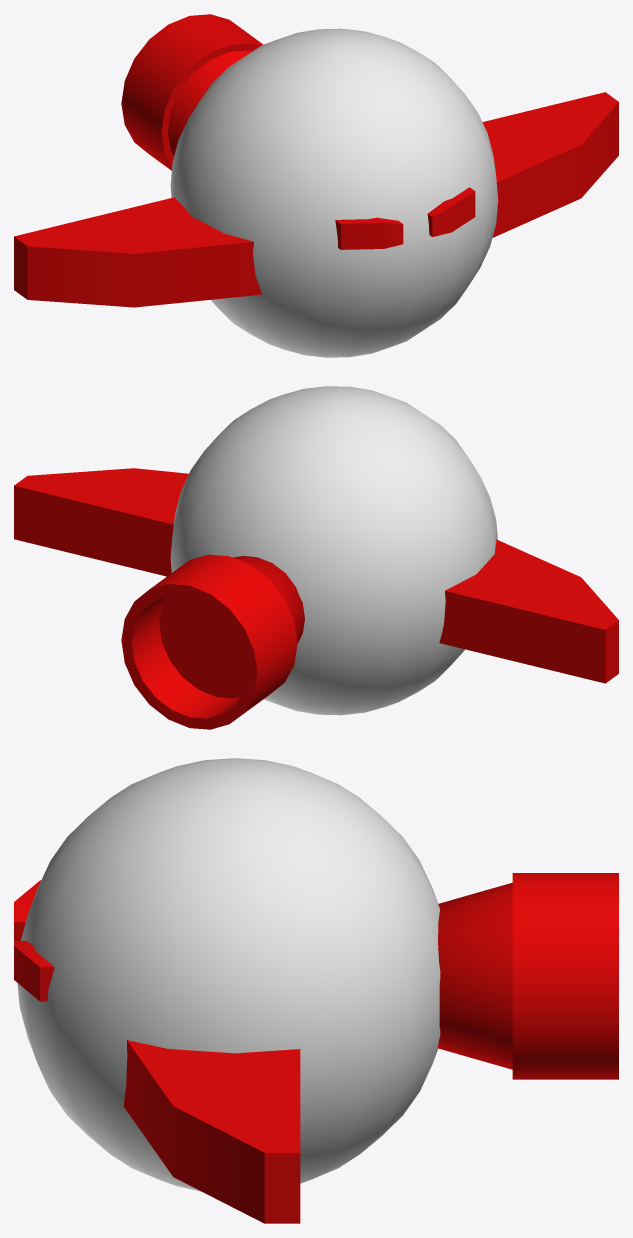
Rendered from enemy_speed.fbx.
The picture shows the model from 3 angles, top to bottom: view 1: azimuth 30°, elevation 25°; view 2: azimuth 150°, elevation 25°; view 3: azimuth 270°, elevation 25°; orthographic projection. The views are drawn at different scales.
Visible parts, largest first — view 1: pSphere1, pCube2, Booster1:polySurface2, pCube1, Booster1:pCone1; view 2: pSphere1, pCube2, Booster1:polySurface2, Booster1:pCone1; view 3: pSphere1, pCube2, Booster1:polySurface2, Booster1:pCone1, pCube1.
Part boxes in pixels (x1,y1,x2,y2): pSphere1: (170, 28, 498, 357); pCube2: (14, 92, 618, 307); Booster1:polySurface2: (121, 14, 262, 170); pCube1: (335, 187, 475, 249); Booster1:pCone1: (168, 50, 251, 156); pSphere1: (170, 386, 497, 715); pCube2: (14, 468, 618, 683); Booster1:polySurface2: (121, 554, 297, 729); Booster1:pCone1: (159, 556, 304, 698); pSphere1: (17, 758, 440, 1191); pCube2: (123, 1040, 300, 1223); Booster1:polySurface2: (512, 873, 618, 1079); Booster1:pCone1: (438, 882, 512, 1069); pCube1: (14, 880, 54, 1001).
Size of the model in its own units: 4.29 by 2.07 by 2.87.
